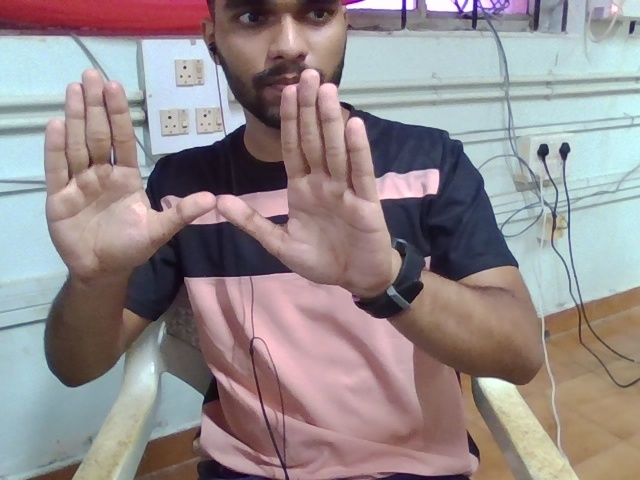All done: (36, 56, 419, 321)
